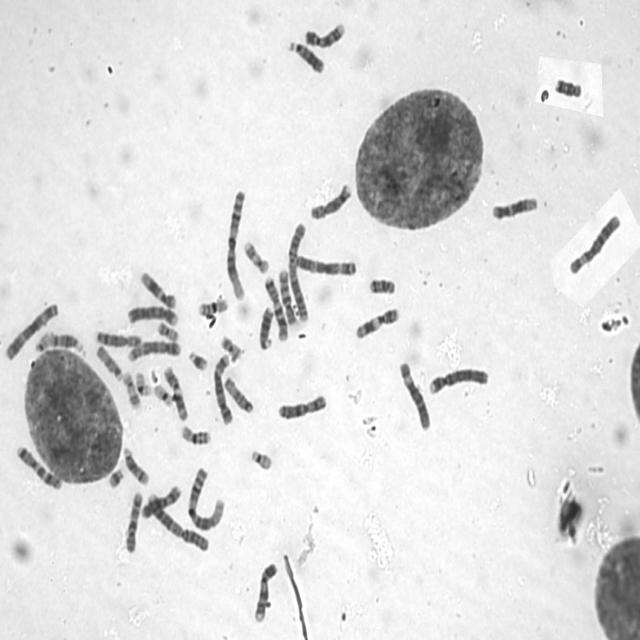A1: (221, 184, 248, 303), (184, 462, 227, 532)
A2: (144, 488, 210, 554), (284, 218, 310, 324)
A3: (2, 298, 60, 362), (291, 250, 358, 278)
B4: (425, 362, 490, 396), (124, 300, 179, 326)
B5: (210, 349, 234, 426), (124, 336, 182, 363)
C10: (122, 486, 144, 555), (276, 264, 298, 327)
C11: (351, 302, 401, 341), (160, 362, 188, 422)
C12: (136, 266, 177, 310), (488, 191, 540, 222)
C6: (566, 209, 622, 276), (396, 356, 432, 432)
C7: (12, 440, 64, 491), (261, 271, 289, 343)
C8: (306, 178, 352, 222), (91, 325, 142, 348)
C9: (251, 558, 279, 624), (302, 17, 346, 49)
D13: (284, 36, 326, 75), (256, 302, 275, 351)
D14: (120, 442, 150, 487), (38, 328, 85, 354)
D15: (220, 372, 254, 415), (93, 340, 124, 382)
E16: (195, 292, 230, 318), (177, 421, 212, 446)
E17: (240, 236, 270, 275), (119, 368, 142, 410)
E18: (552, 73, 583, 99), (366, 273, 396, 296)
F19: (150, 379, 174, 408), (132, 368, 153, 398)
F20: (217, 330, 243, 363), (154, 317, 180, 342)
G21: (185, 346, 209, 373), (105, 463, 125, 490)
G22: (248, 444, 274, 472), (32, 327, 52, 354)
X: (137, 480, 182, 520), (274, 389, 328, 421)
